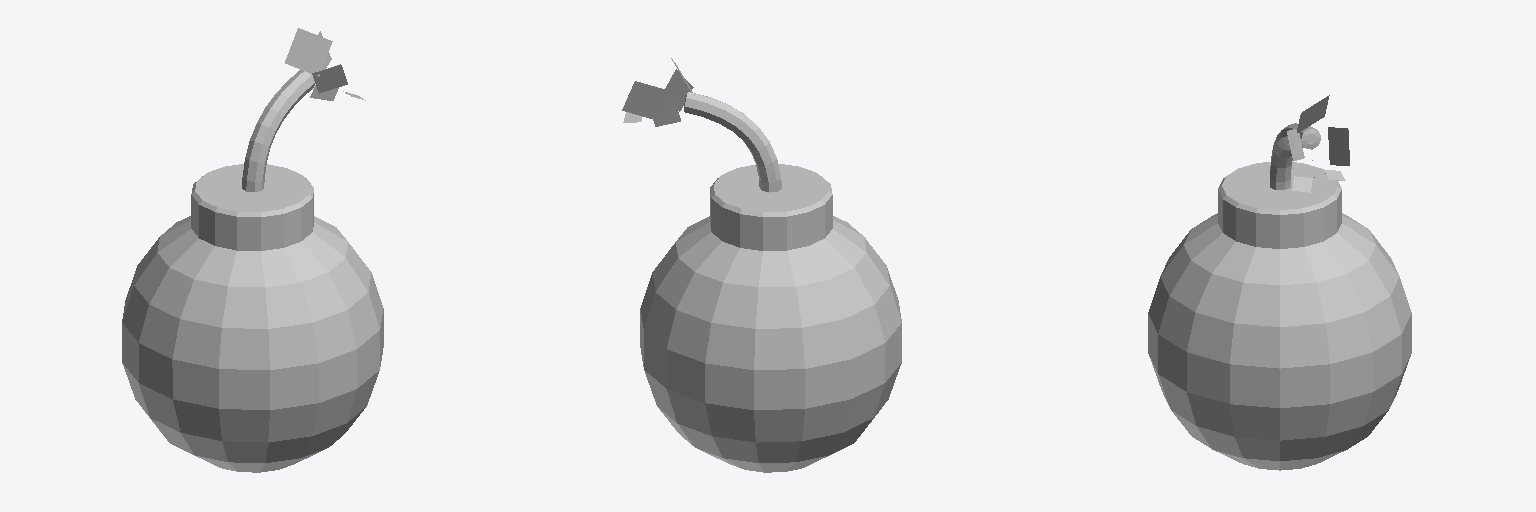
Rendered from bomb_000026.obj.
3 renders of one model, left to right at view 1: azimuth 30°, elevation 25°; view 2: azimuth 150°, elevation 25°; view 3: azimuth 270°, elevation 25°, orthographic.
Parts seen in each view (by area): view 1: Sphere, NurbsPath, Plane_5.001_Mesh.001; view 2: Sphere, NurbsPath, Plane_5.001_Mesh.001; view 3: Sphere, Plane_5.001_Mesh.001, NurbsPath.
Boxes of the visible parts, x1,y1,x2,y2 form: Sphere: [122, 164, 383, 472]; NurbsPath: [242, 70, 315, 191]; Plane_5.001_Mesh.001: [285, 28, 365, 100]; Sphere: [640, 164, 901, 472]; NurbsPath: [684, 92, 781, 192]; Plane_5.001_Mesh.001: [622, 58, 694, 126]; Sphere: [1148, 162, 1411, 470]; Plane_5.001_Mesh.001: [1287, 95, 1349, 192]; NurbsPath: [1270, 123, 1320, 189].
Bounding box in the file's own units: 0.8154 × 1.29 × 0.7933.